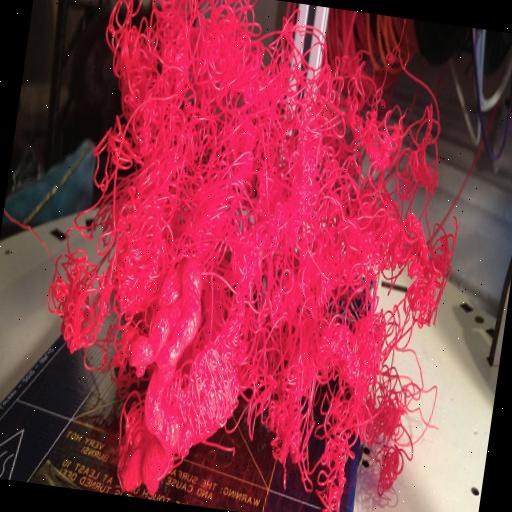spaghetti: (18, 0, 484, 512)
